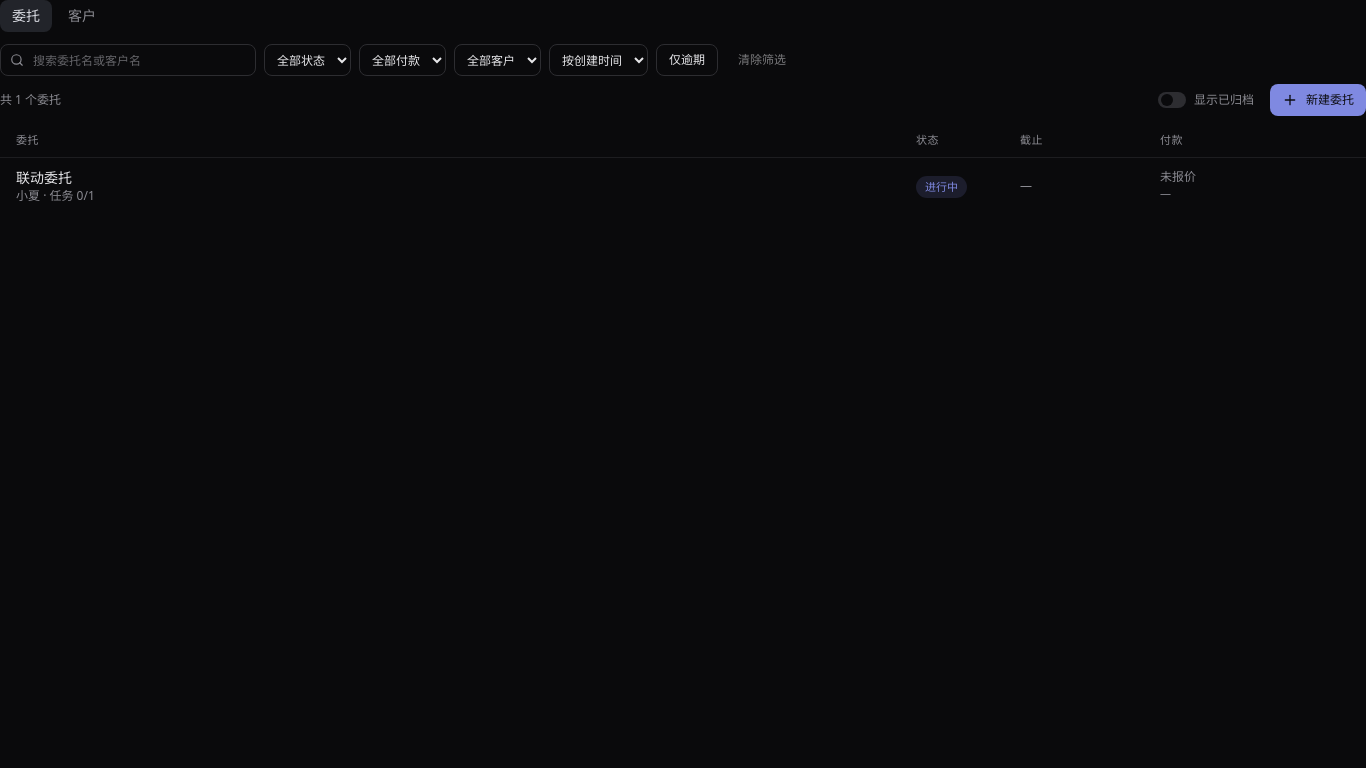
Scenario: 委托列表页 › 完成最后一个任务后，详情状态自动更新为已完成
Click the button with test id "commission-row" at (44, 177), box [0,158,1365,214]
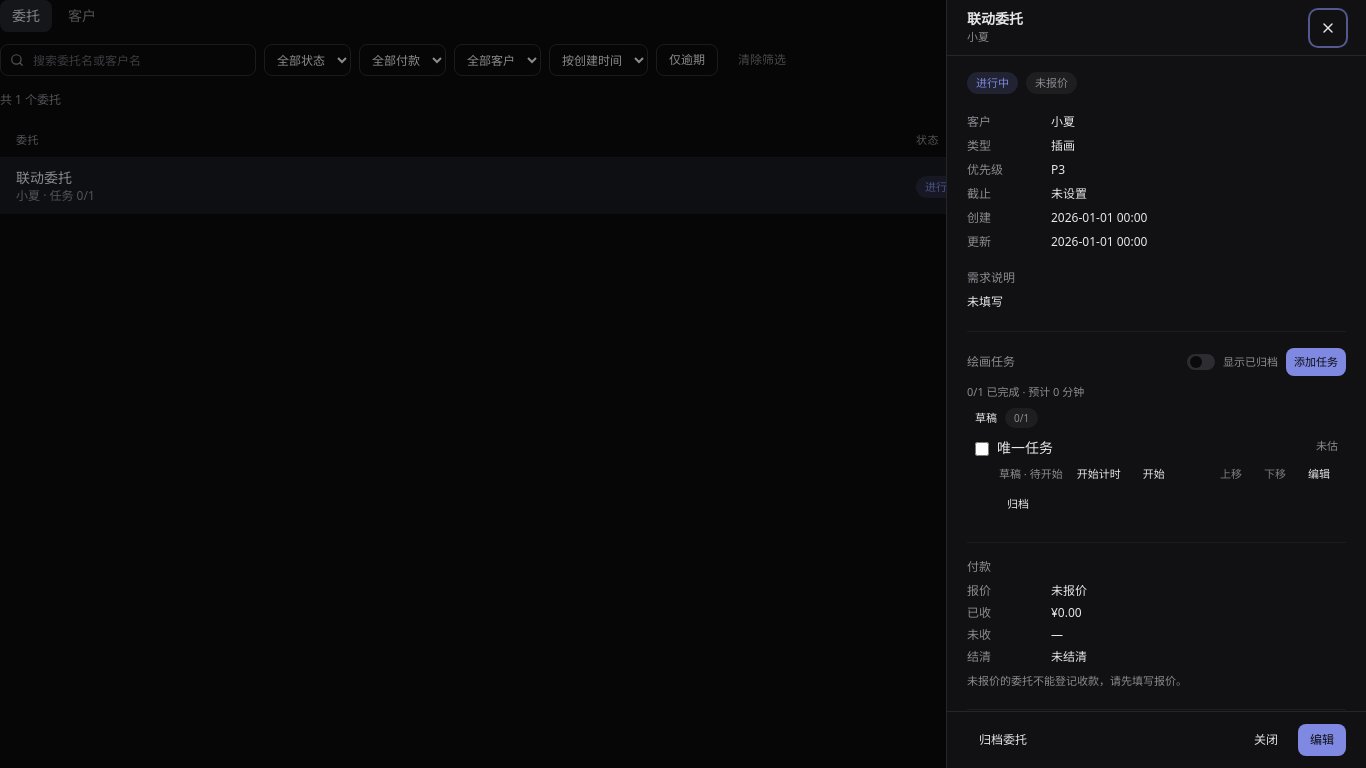
Now the text "进行中" is shown, box [967,72,1018,94]
Click the checkbox named "将「唯一任务」标记为已完成" at (982, 449), box [975,442,989,456]
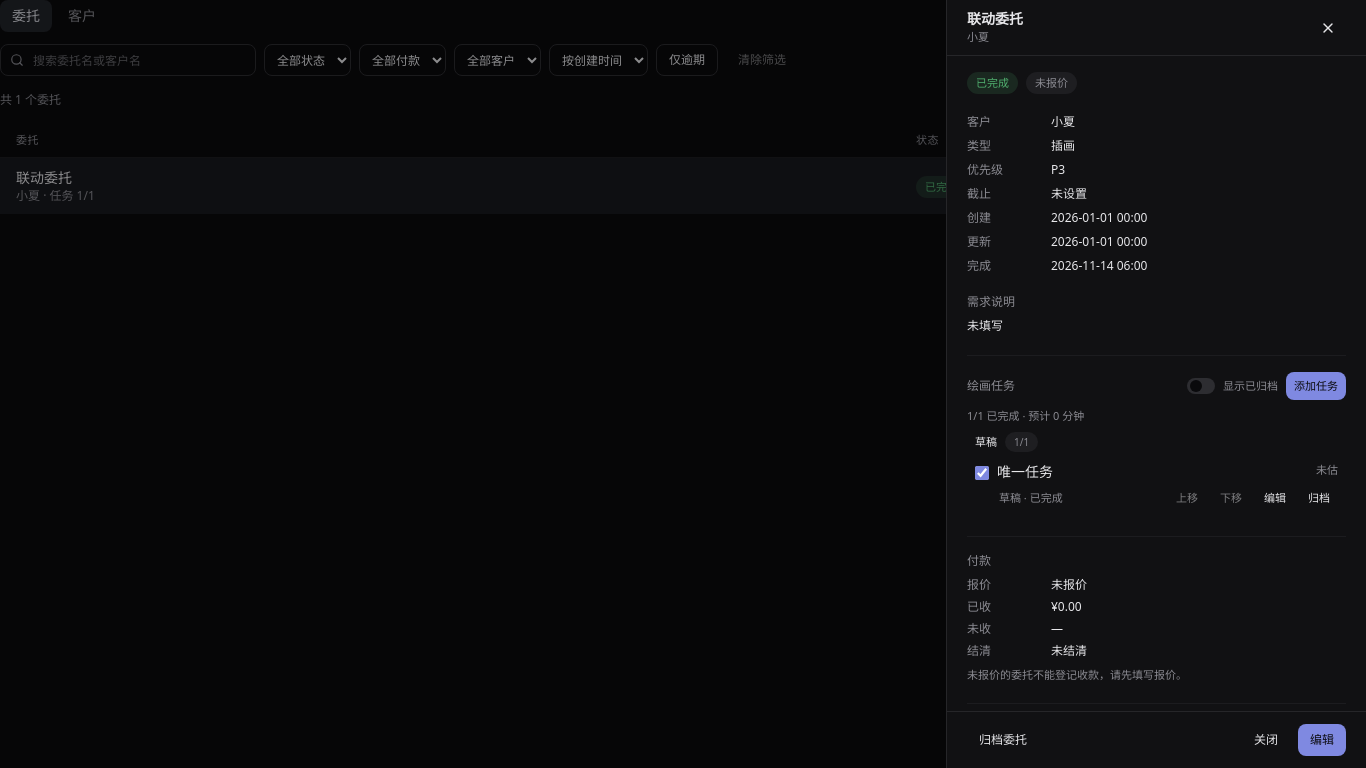
Now the text "已完成" is shown, box [967,72,1018,94]
Now the text "完成" is shown, box [967,257,991,274]
Note: 关闭详情，避免 Radix 的 body 锁定影响后续测试
Click the button "关闭" at (1266, 740), box [1242,724,1290,756]
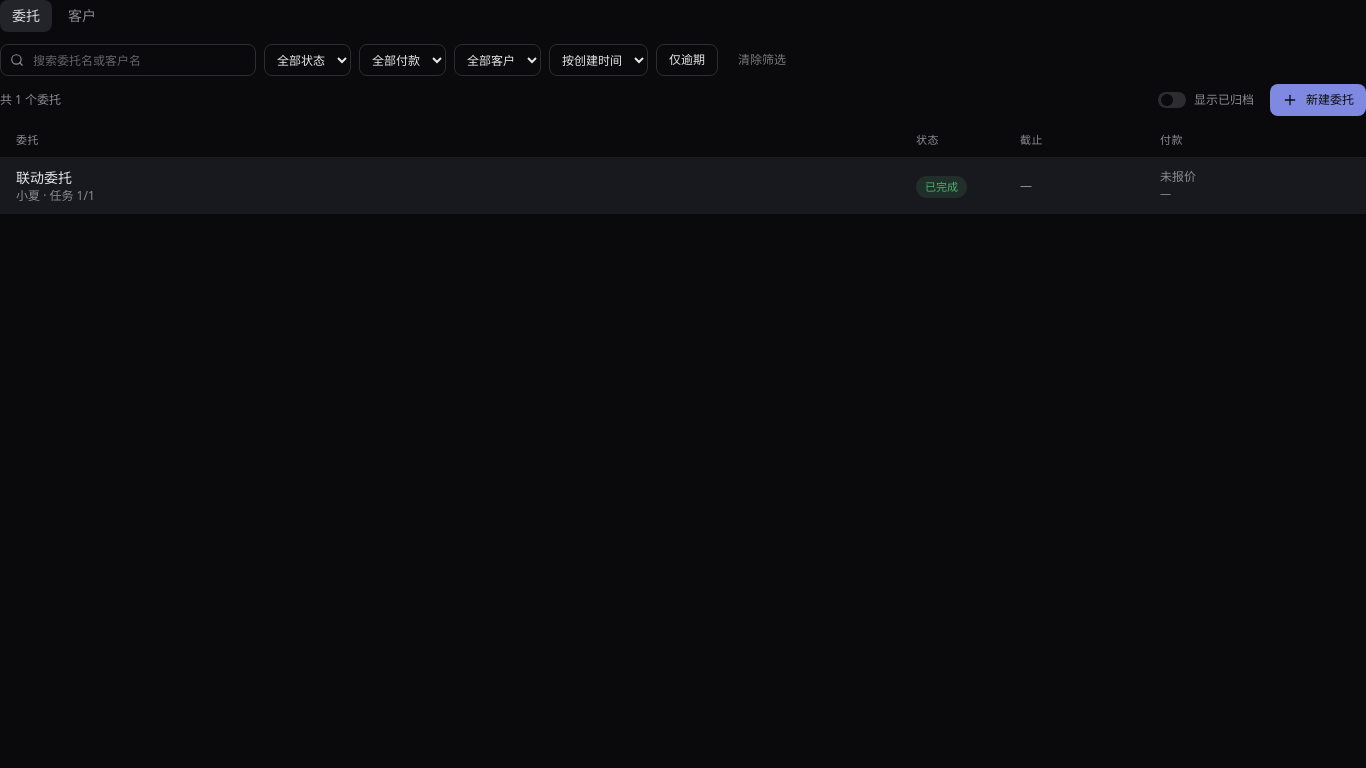
Now the dialog with test id "sheet" is gone
